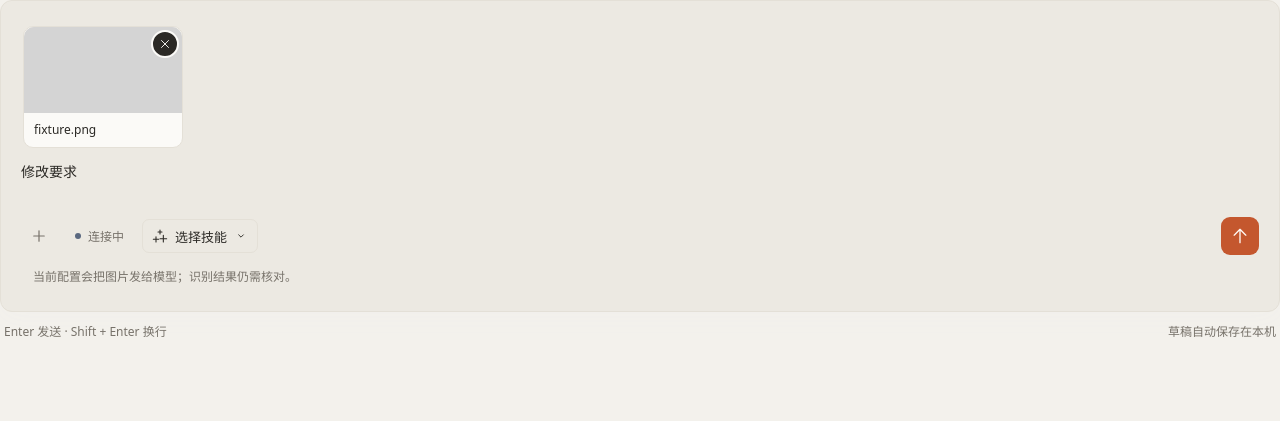
Scenario: pending attachment drafts remain intact until the user chooses how to change the task
The width and height of the screenshot is (1280, 421).
What coordinates should you click on to do the following:
click the button named "发送"
I would click on:
 (1240, 236)
Its box is left=1221, top=217, right=1259, bottom=255.
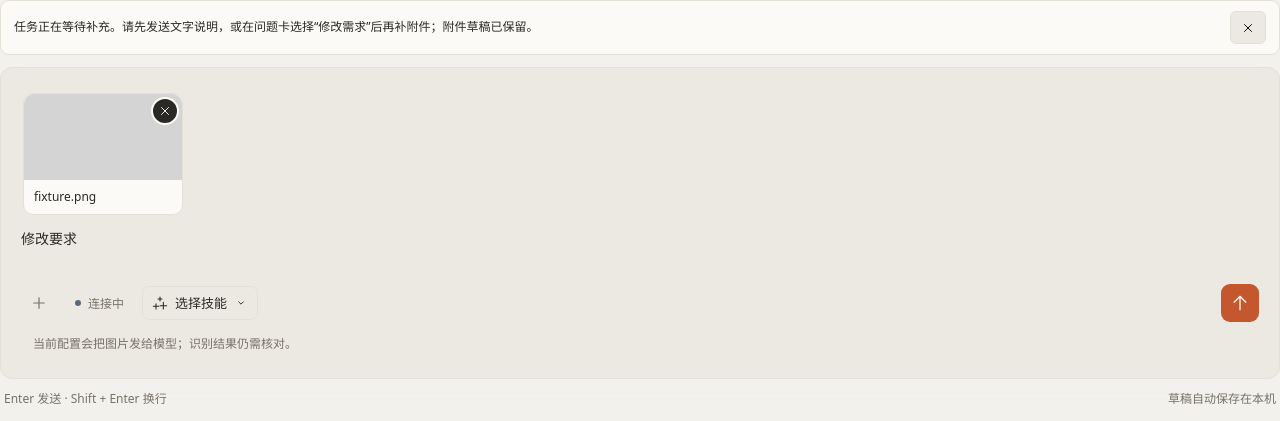
Check: the text box named "消息" holds "修改要求", box left=21, top=227, right=1259, bottom=275
Check: the text "附件草稿已保留" is shown, box left=14, top=18, right=539, bottom=35
